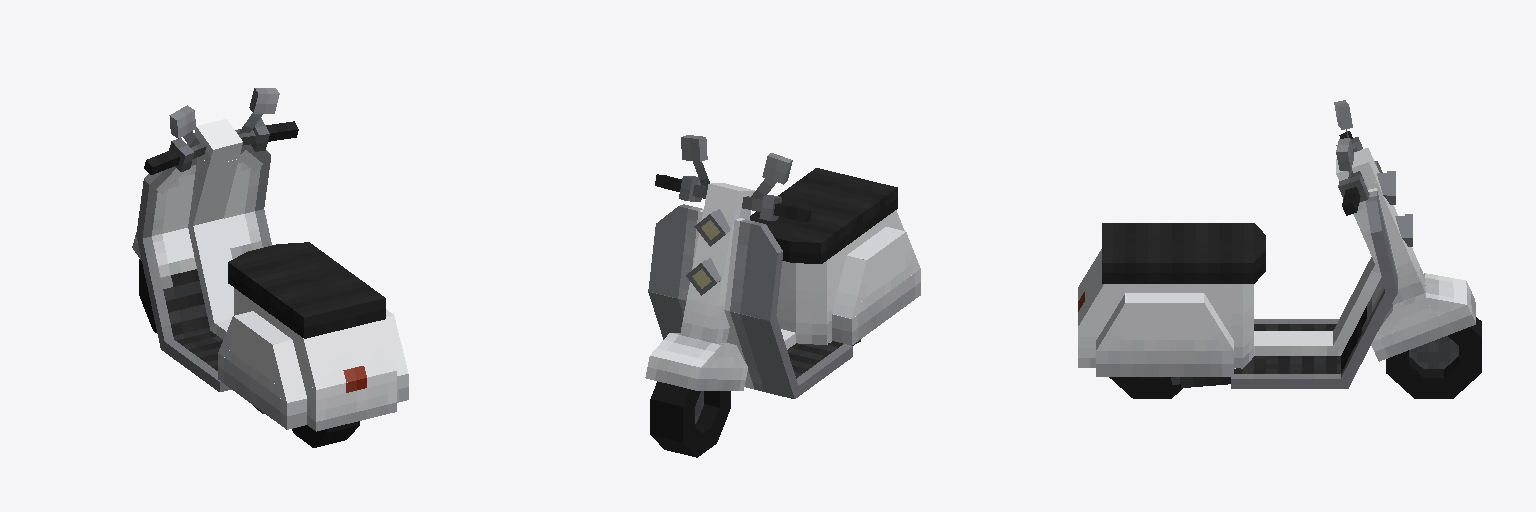
3 renders of one model, left to right at view 1: azimuth 30°, elevation 25°; view 2: azimuth 150°, elevation 25°; view 3: azimuth 270°, elevation 25°, orthographic.
Visible parts, largest first — view 1: cube, octagon; view 2: cube, octagon; view 3: cube, octagon.
Boxes of the visible parts, x1=… form: cube: x1=132, y1=88, x2=408, y2=431; octagon: x1=139, y1=259, x2=359, y2=447; cube: x1=645, y1=135, x2=920, y2=398; octagon: x1=650, y1=381, x2=730, y2=457; cube: x1=1078, y1=100, x2=1475, y2=388; octagon: x1=1109, y1=317, x2=1481, y2=398.
Bounding box in the file's own units: 0.9228 × 1.58 × 2.15.
Materials: 1 (1 with a texture image).